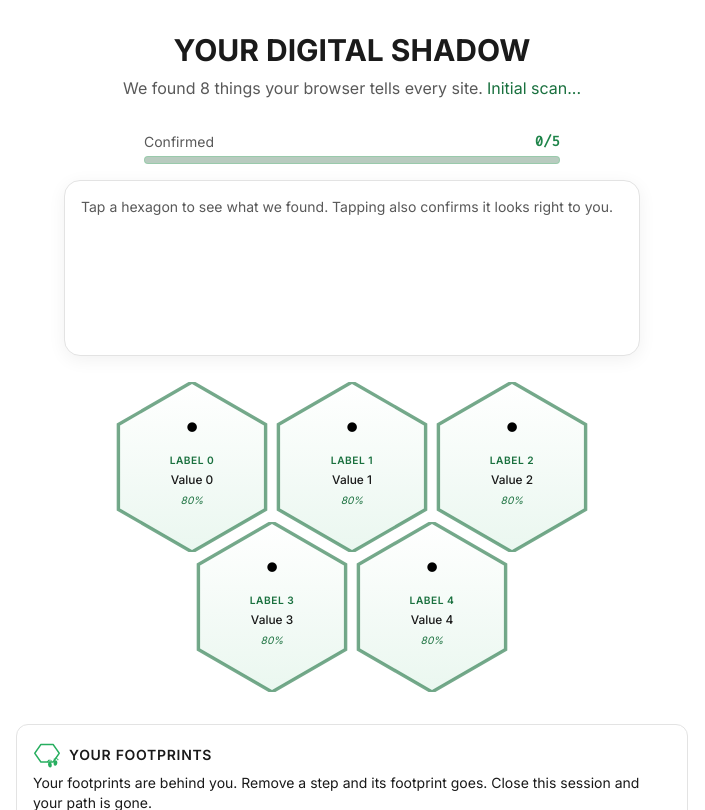
Test case: the footprints cue (the Path) › removing the last footprint brings back the empty state and never goes below zero
The width and height of the screenshot is (705, 810).
Click the button "• Label 0 Value 0 80%" at [192, 467], box top-left (107, 382), bottom-right (277, 552)
(page scrolled)
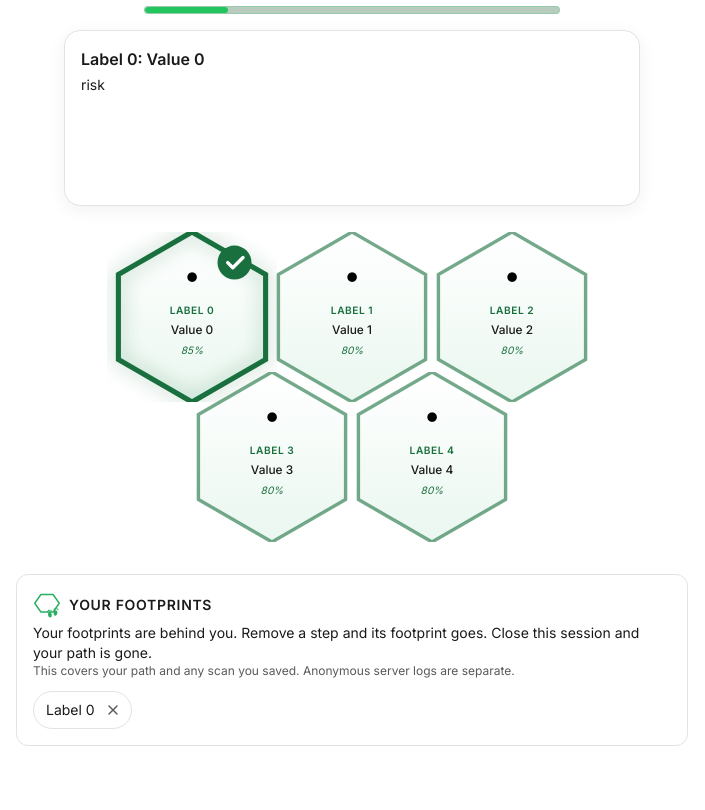
Click the button named "Remove footprint: Label 0" at [113, 710], box top-left (99, 696), bottom-right (127, 724)
(page scrolled)
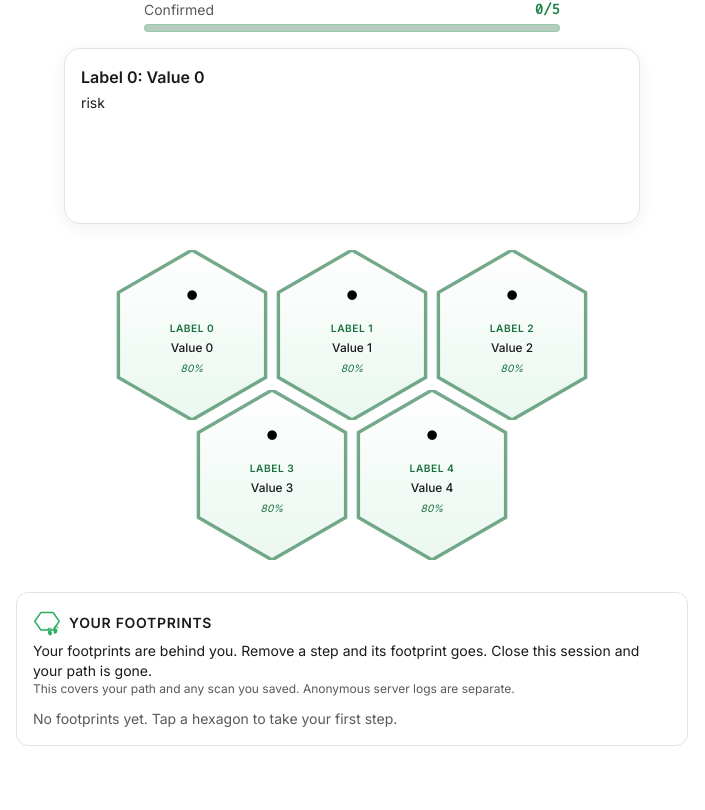
Expected: the text with test id "confirmation-counter" reads "0/5", top-left (535, 0), bottom-right (560, 20)
Expected: the text "No footprints yet. Tap a hexagon to take your first step." is shown, top-left (33, 710), bottom-right (397, 726)
